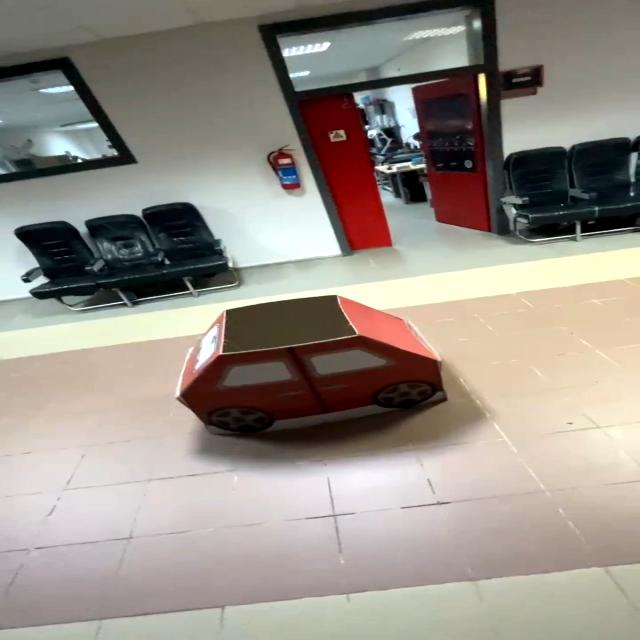red_car: (133, 283, 472, 456)
